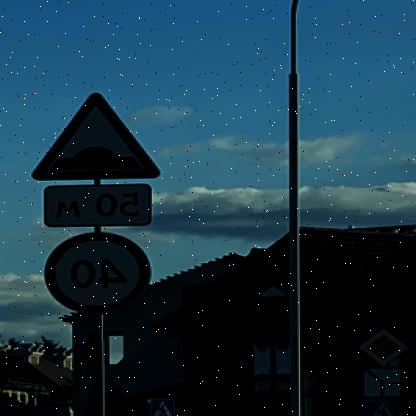crosswalk: (370, 399, 404, 415), (154, 397, 178, 415)
speedlimit: (46, 230, 154, 312)
